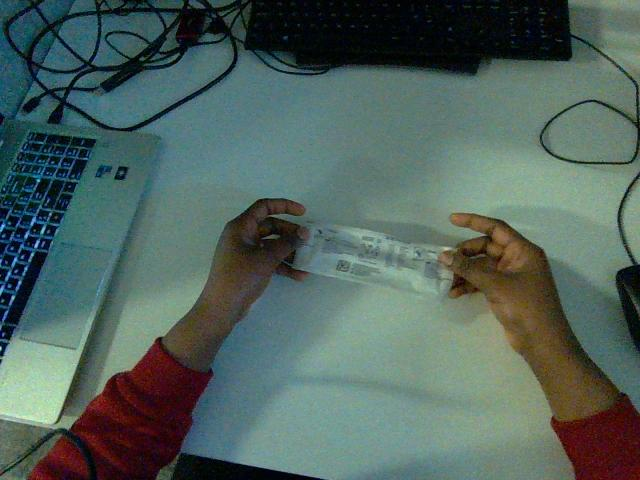syringe: (292, 223, 452, 295)
